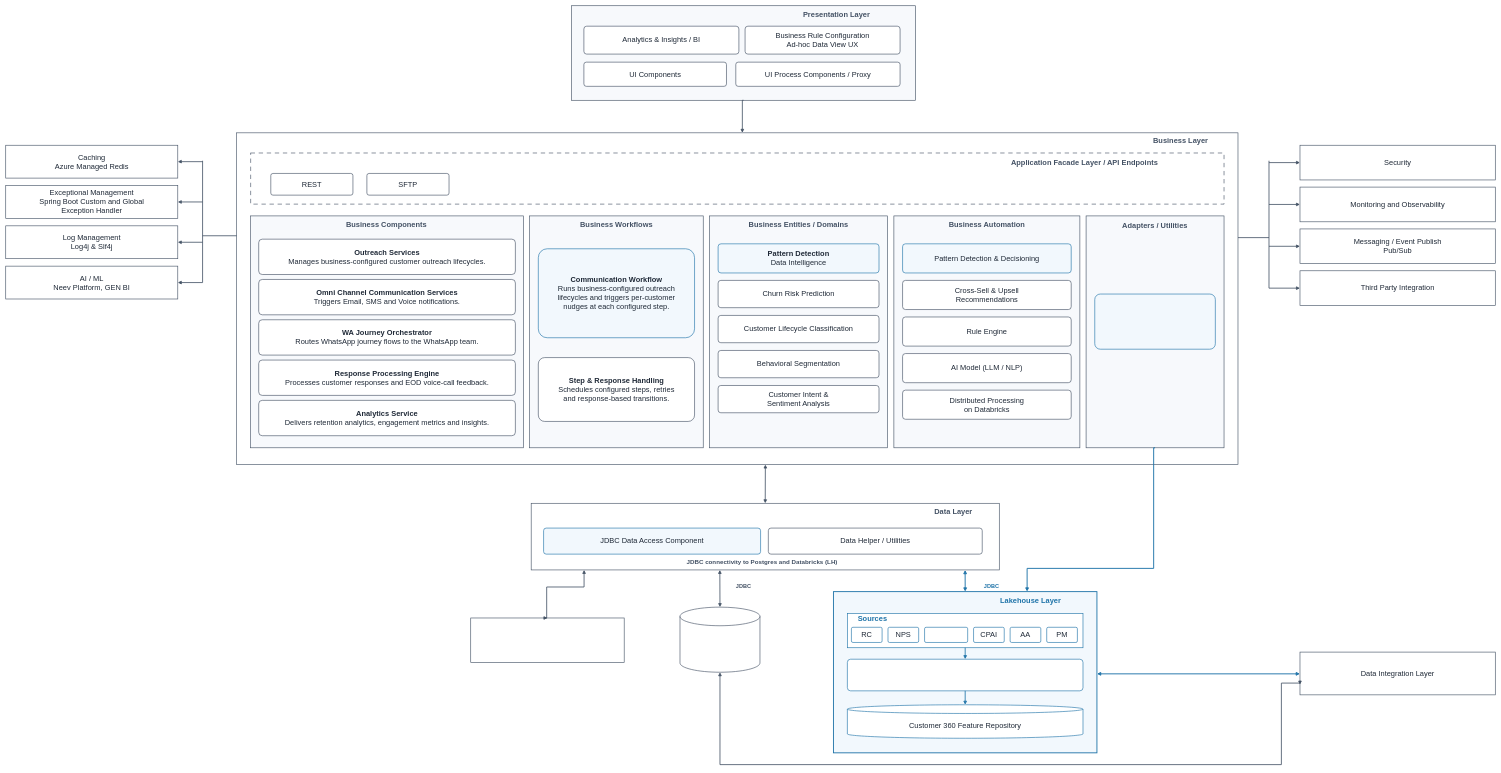
Some shapes in this 1501 by 773 pixel diagram are drawn without their labels. The box of each missing label's shape, as (x1, y1, x2, y2) in pixels:
Campaign: (924, 627, 968, 643)
Databricks (LH) Integration: (1094, 294, 1216, 349)
Databricks ETL / Feature Engineering: (847, 659, 1083, 691)
Postgres: (680, 607, 760, 672)
Storage Solutions: (470, 618, 624, 662)
